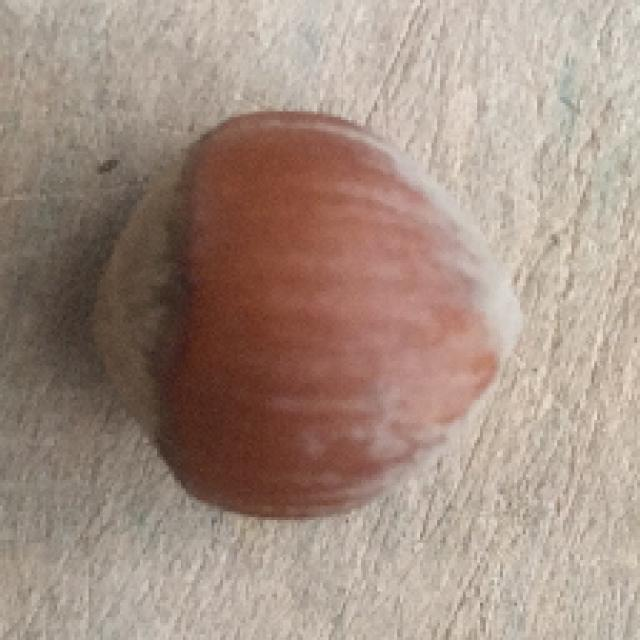qualityHazelnut: (77, 115, 547, 527)
